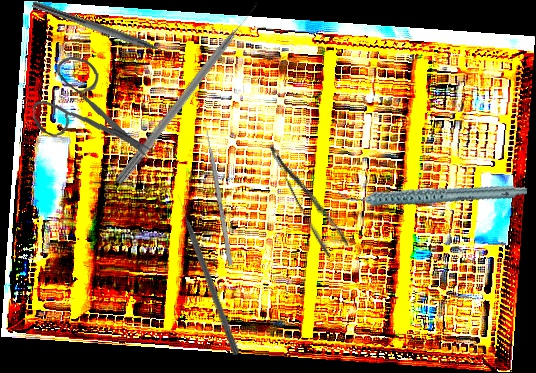Chopper: (28, 0, 180, 68)
Dressing Forceps: (266, 134, 351, 260)
Handpiece: (336, 150, 529, 236)
Iris Scissors: (29, 52, 155, 167)
Pusher: (113, 0, 264, 188), (174, 193, 242, 356), (202, 119, 234, 266)
